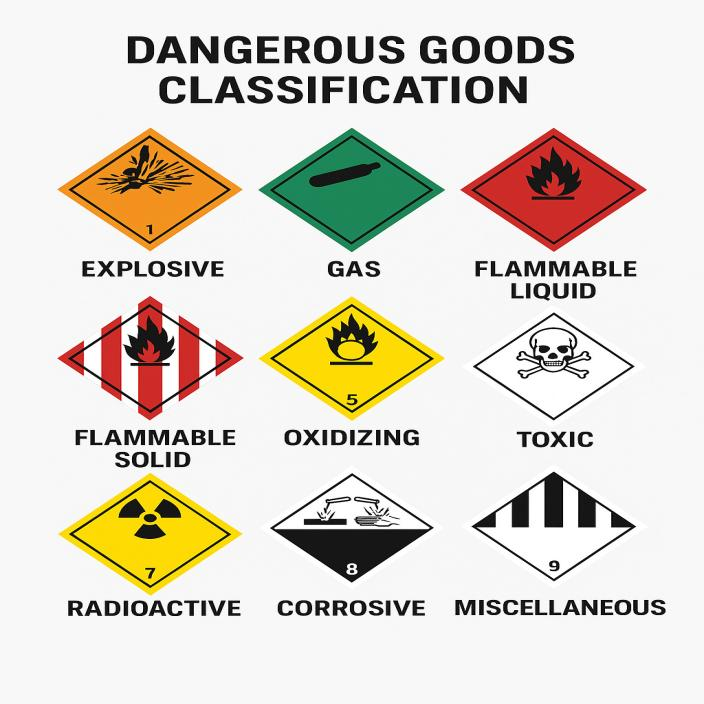bathroom sign: (52, 124, 250, 255)
bench: (457, 124, 661, 255)
building map: (253, 124, 454, 257)
chair: (52, 293, 250, 425)
defibrillator: (251, 294, 452, 424)
door: (462, 303, 650, 429)
doorway: (60, 474, 241, 593)
elevator buttons: (252, 463, 450, 592)
elevator doors: (456, 462, 655, 593)
